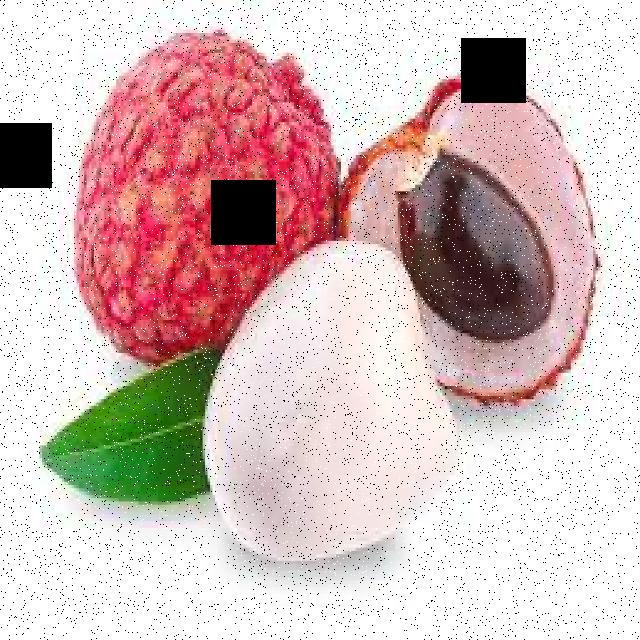lychee: (109, 46, 607, 558)
